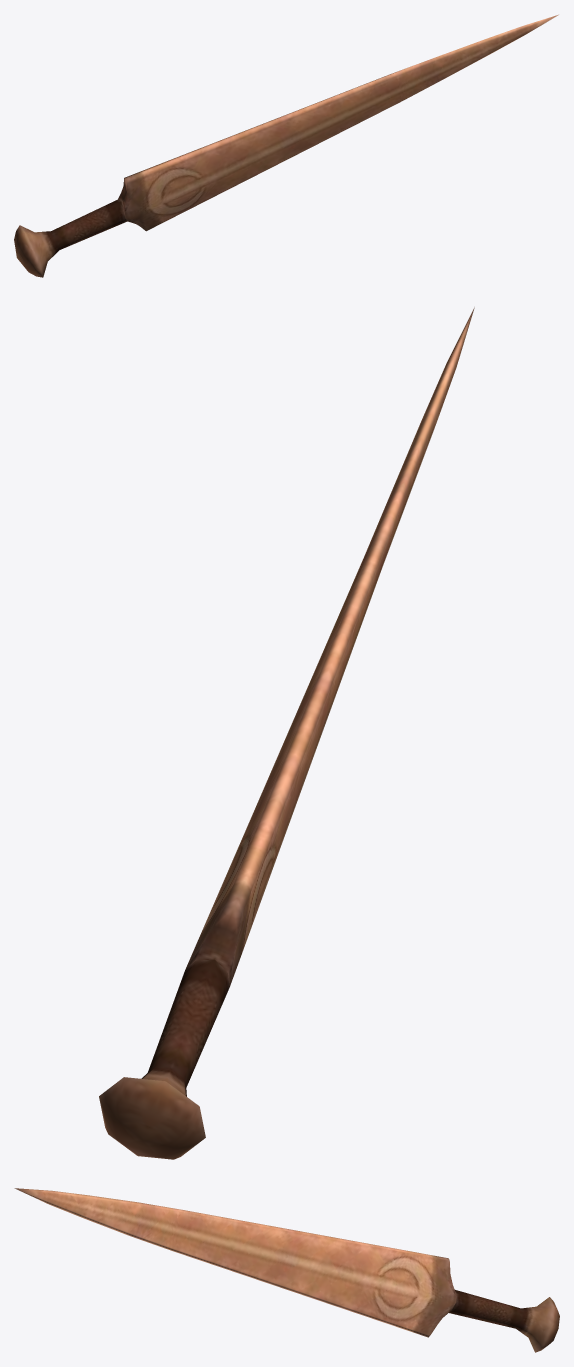
The model's file is weapon-copperweapons.glb.
The picture shows the model from 3 angles, top to bottom: view 1: azimuth 90°, elevation 25°; view 2: azimuth 150°, elevation 25°; view 3: azimuth 270°, elevation 25°; orthographic projection. The views are drawn at different scales.
Bounding box in the file's own units: 0.2568 × 0.4094 × 0.9652.
Materials: 1 (1 with a texture image).
